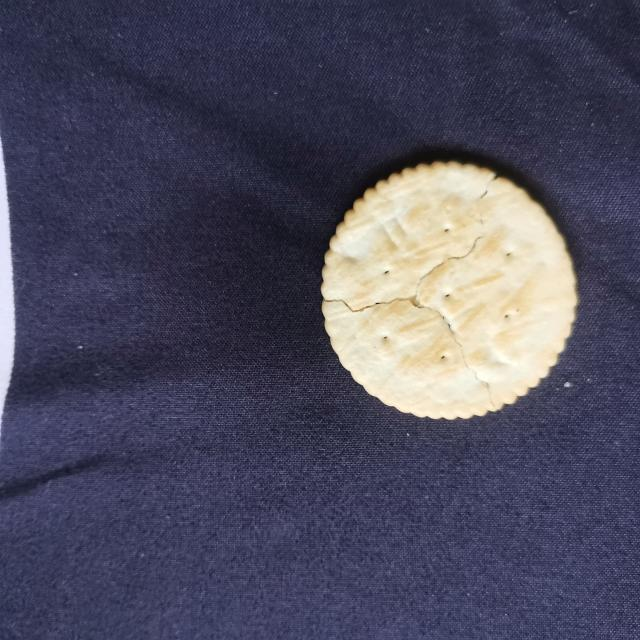Fracture: (322, 169, 522, 417)
